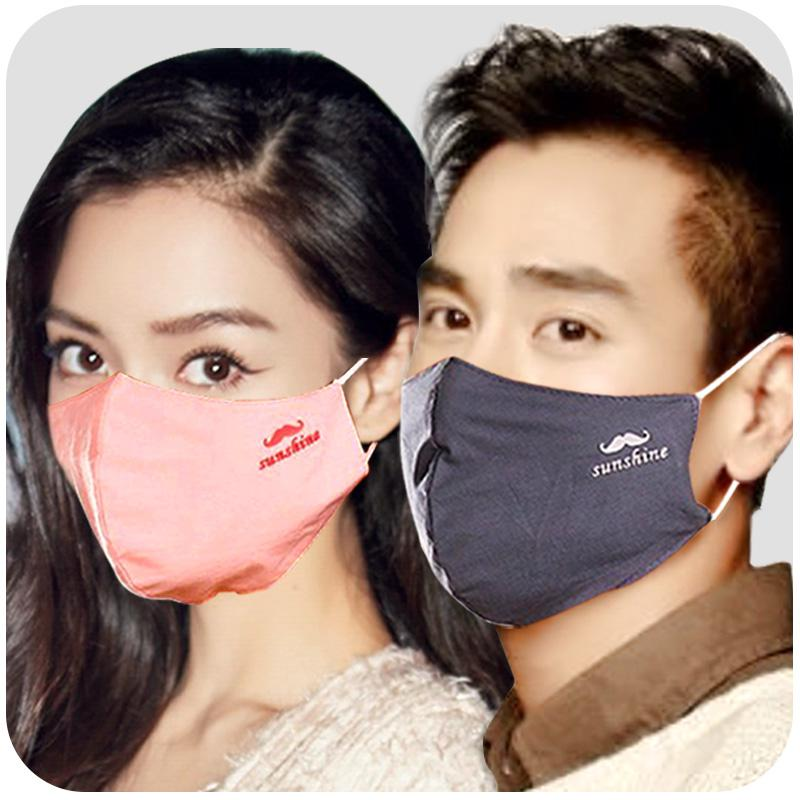OK: (412, 249, 776, 613), (39, 294, 330, 585)
